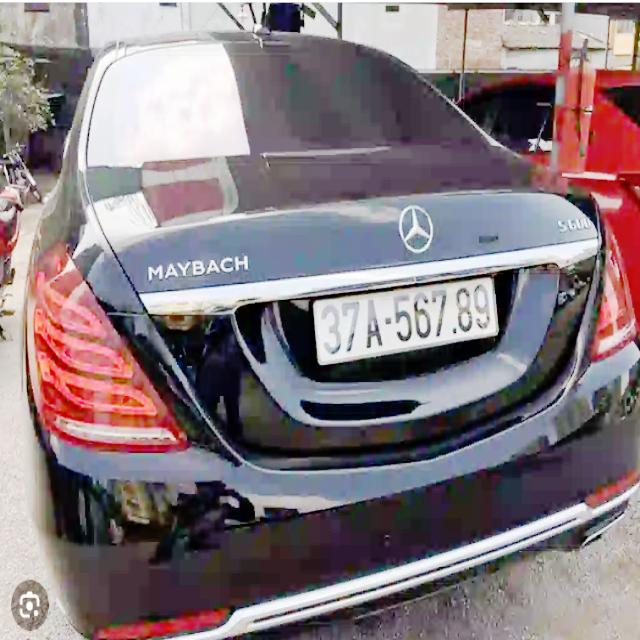license_plate: (317, 277, 499, 366)
